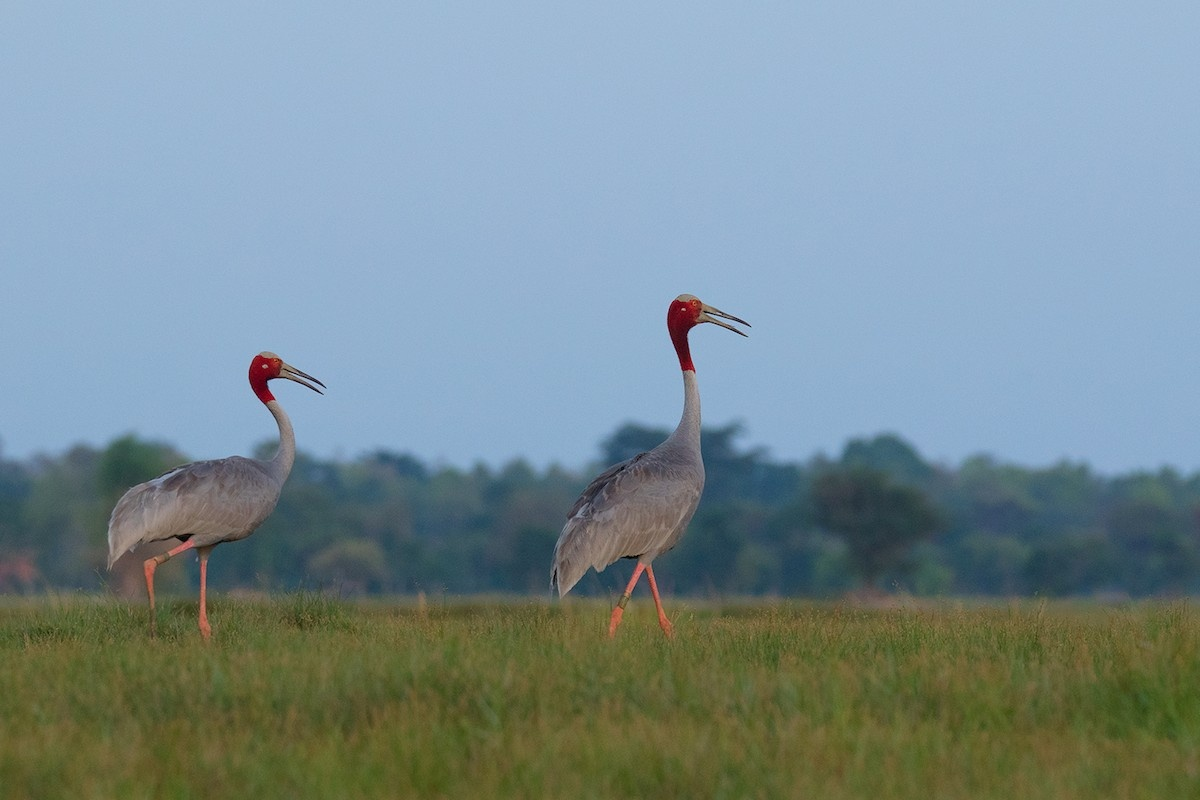crane: (556, 281, 759, 643), (109, 337, 339, 624)
